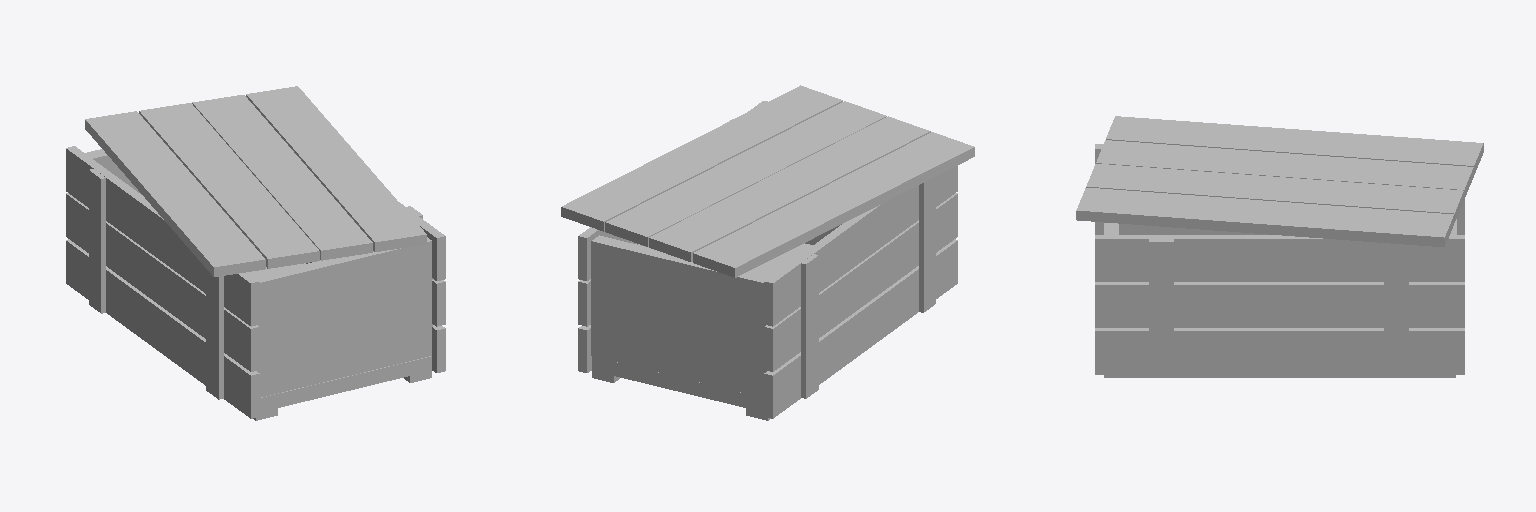
File: simple_short_crate.obj
3 views of the same model, side by side, from view 1: azimuth 30°, elevation 25°; view 2: azimuth 150°, elevation 25°; view 3: azimuth 270°, elevation 25° (orthographic).
Visible parts, largest first — view 1: Object_2; view 2: Object_2; view 3: Object_2.
Part boxes in pixels (x1,y1,x2,y2): Object_2: (66, 86, 445, 420); Object_2: (561, 85, 974, 420); Object_2: (1076, 116, 1483, 377).
Bounding box in the file's own units: 3.12 × 1.9 × 4.43.